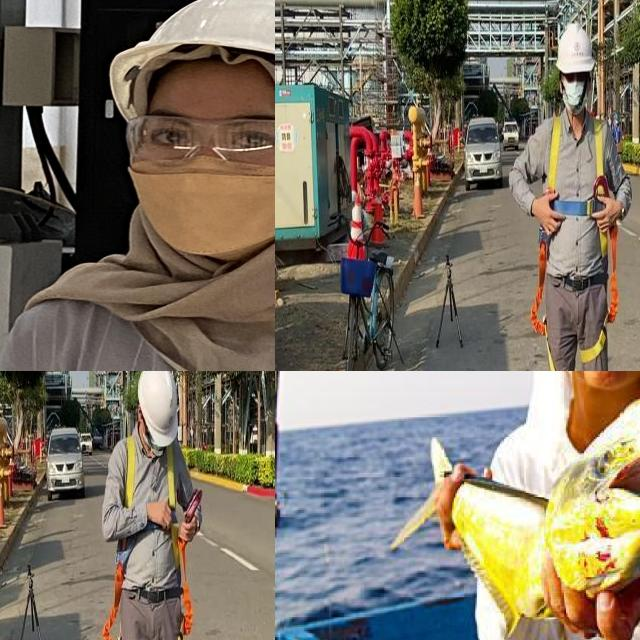Harness: (547, 116, 620, 364), (531, 228, 557, 371), (170, 524, 194, 640), (102, 559, 125, 640)
face_mask: (119, 102, 275, 258)
glasses: (116, 108, 275, 169)
hand_noglove: (525, 545, 640, 640), (413, 462, 493, 544)
head_helmet: (101, 0, 275, 145)
